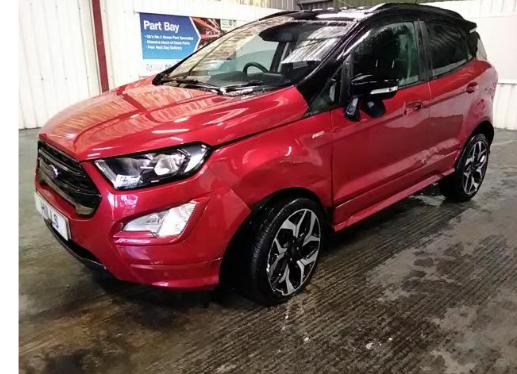Broken part: (206, 122, 287, 163), (206, 165, 251, 216), (323, 195, 354, 231)
Dent: (216, 124, 292, 165), (230, 162, 280, 208), (215, 187, 248, 246), (276, 131, 328, 168), (194, 163, 232, 198), (396, 93, 427, 129), (412, 144, 450, 170), (285, 173, 331, 186)
